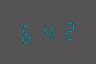four: (38, 20, 56, 43)
six: (18, 22, 36, 44)
two: (57, 19, 75, 42)
